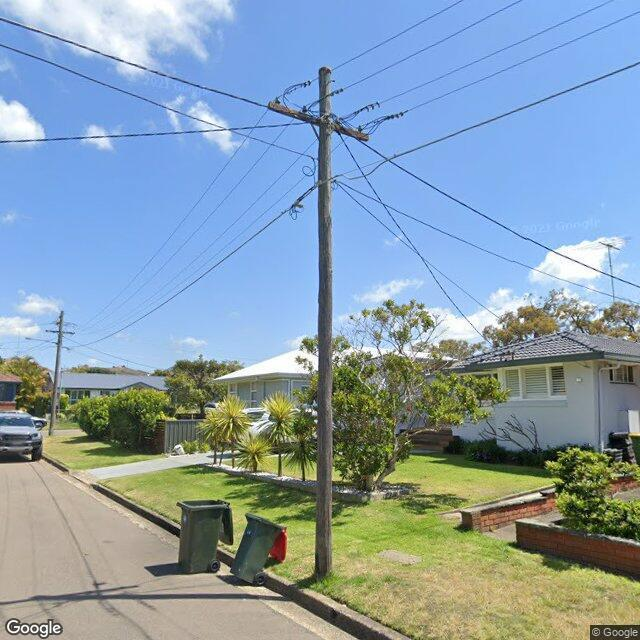crossarm: (264, 99, 370, 145), (46, 328, 76, 336)
timber-pole: (315, 65, 331, 578), (49, 310, 65, 437)
